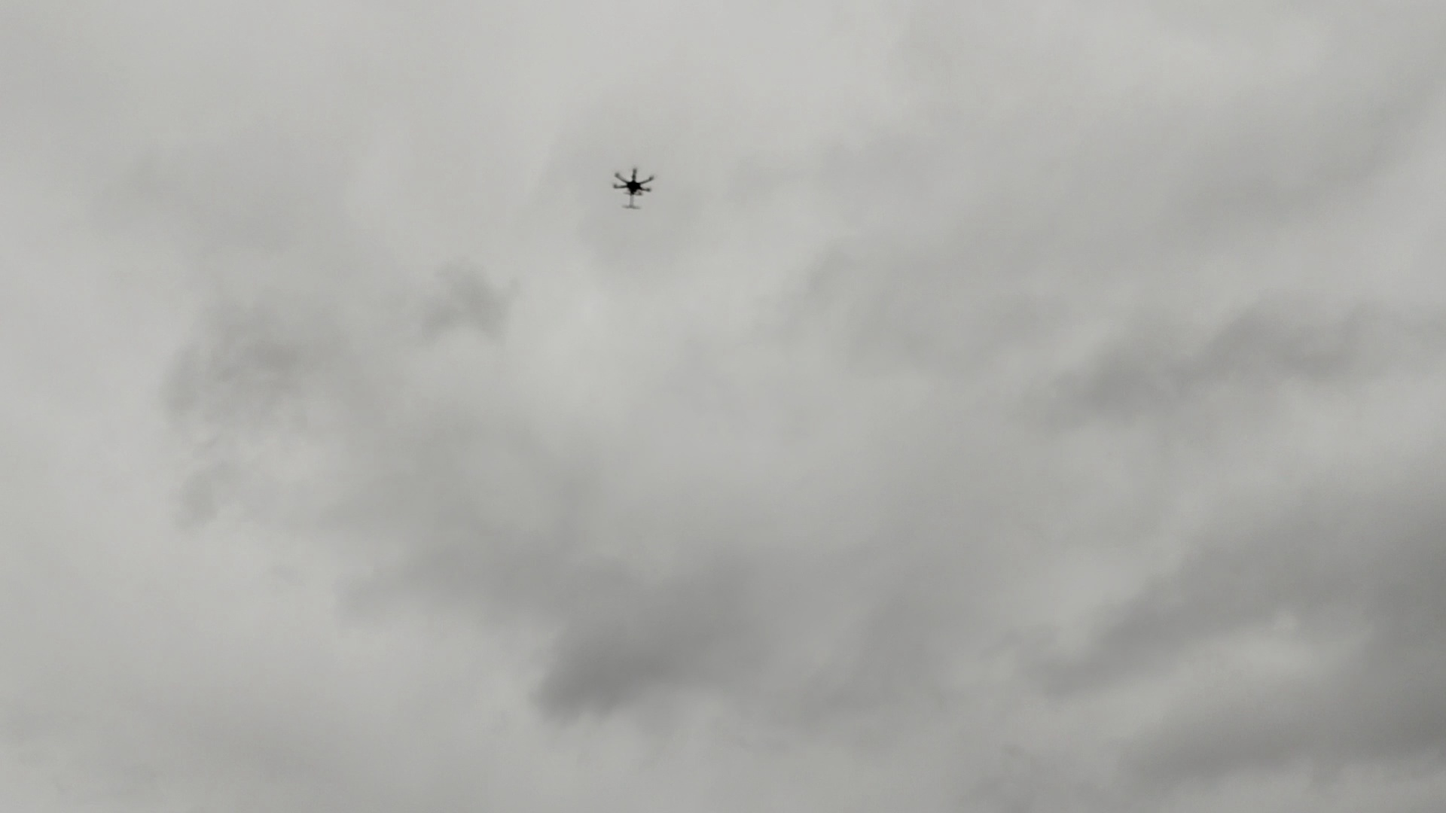drone_other: (609, 164, 659, 210)
